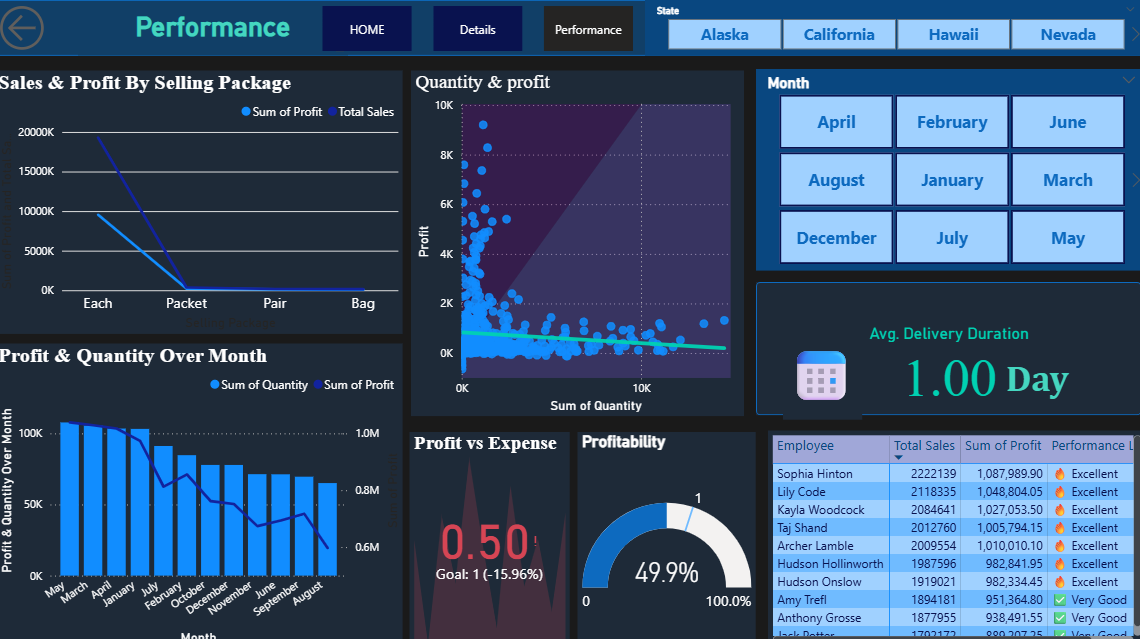

The dashboard page shown, as its layout file describes it:
{"tool":"powerbi","page":{"name":"Performance ","canvas":[1280,720],"ordinal":2},"visuals":[{"type":"shape","box":[0,0,1280,62],"z":0},{"type":"actionButton","box":[0,0,128,62],"z":1000},{"type":"lineClusteredColumnComboChart","title":"Profit & Quantity Over Month","fields":{"Category":["DimDate.Month"],"Y":["Sum(FactSale.Quantity)"],"Y2":["Sum(FactSale.Profit)"]},"box":[0,381.4,454.3,338.6],"z":2000},{"type":"scatterChart","title":"Quantity & profit","fields":{"Y":["FactSale.Profit"],"X":["Sum(FactSale.Quantity)"]},"box":[462.9,78.6,370,384.3],"z":3000},{"type":"pivotTable","fields":{"Rows":["DimEmployee.Employee"],"Values":["FactSale.Total Sales","Sum(FactSale.Profit)","FactSale.Performance Label"]},"box":[860,478,420,242],"z":4000},{"type":"lineChart","title":"Sales & Profit By Selling Package","fields":{"Category":["DimStockItem.Selling Package"],"Y":["Sum(FactSale.Profit)","FactSale.Total Sales"]},"box":[0,78.6,454.3,292.9],"z":5000},{"type":"gauge","title":"Profitability","fields":{"MaxValue":["FactSale.Maximum"],"MinValue":["FactSale.Minimum"],"Y":["FactSale.Profitability"],"TargetValue":["FactSale.Profitability Target"]},"box":[648,480,198,240],"z":6000},{"type":"kpi","title":"Profit vs Expense ","fields":{"Indicator":["FactSale.Profit vs Expense"],"Goal":["FactSale.Profitability Target"],"TrendLine":["DimDate.Month"]},"box":[462,480,178,240],"z":7000},{"type":"shape","box":[846,314,428,148],"z":8000},{"type":"card","title":"Avg. Delivery Duration","fields":{"Values":["FactSale.Avg. Delivery Duration"]},"box":[964,360,196,88],"z":9000},{"type":"textbox","title":"📅","box":[876,378,88,88],"z":10000},{"type":"slicer","fields":{"Values":["DimDate.Month"]},"box":[846,76,434,224],"z":11000},{"type":"slicer","fields":{"Values":["DimCity.State Province"]},"box":[723.3,0,556.7,61.7],"z":12000},{"type":"textbox","title":"Performance","box":[94,12,300,50],"z":13000},{"type":"textbox","title":"Day","box":[1118,396,82,50],"z":14000},{"type":"pageNavigator","box":[365,6.7,346.7,50],"z":14001}]}

Visuals, with their boxes in screenshot pixels (x1, y1, x2, y2), scaled from the page's 1280x720 canvas onto the 1140x639 screenshot:
shape: box(0, 0, 1139, 55)
actionButton: box(0, 0, 114, 55)
"Profit & Quantity Over Month" lineClusteredColumnComboChart: box(0, 338, 405, 638)
"Quantity & profit" scatterChart: box(412, 70, 742, 411)
pivotTable - DimEmployee.Employee x FactSale.Total Sales: box(766, 424, 1139, 638)
"Sales & Profit By Selling Package" lineChart: box(0, 70, 405, 330)
"Profitability" gauge: box(577, 426, 753, 638)
"Profit vs Expense " kpi: box(411, 426, 570, 638)
shape: box(753, 279, 1135, 410)
"Avg. Delivery Duration" card: box(859, 320, 1033, 398)
"📅" textbox: box(780, 335, 859, 414)
slicer - DimDate.Month: box(753, 67, 1139, 266)
slicer - DimCity.State Province: box(644, 0, 1139, 55)
"Performance" textbox: box(84, 11, 351, 55)
"Day" textbox: box(996, 351, 1069, 396)
pageNavigator: box(325, 6, 634, 50)
